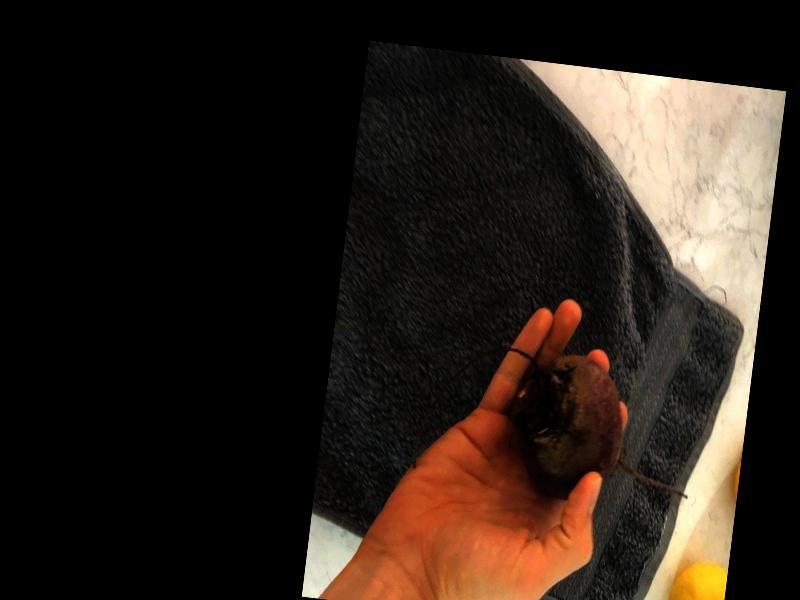Beet: (500, 350, 702, 515)
